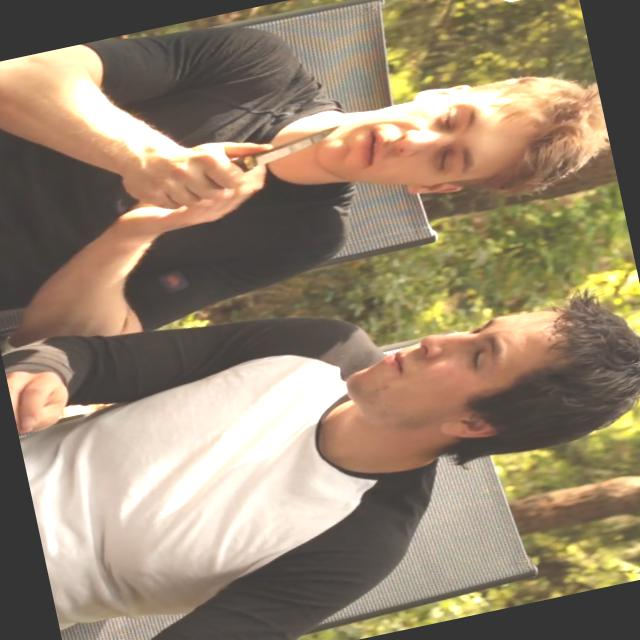knife: (172, 102, 364, 215)
